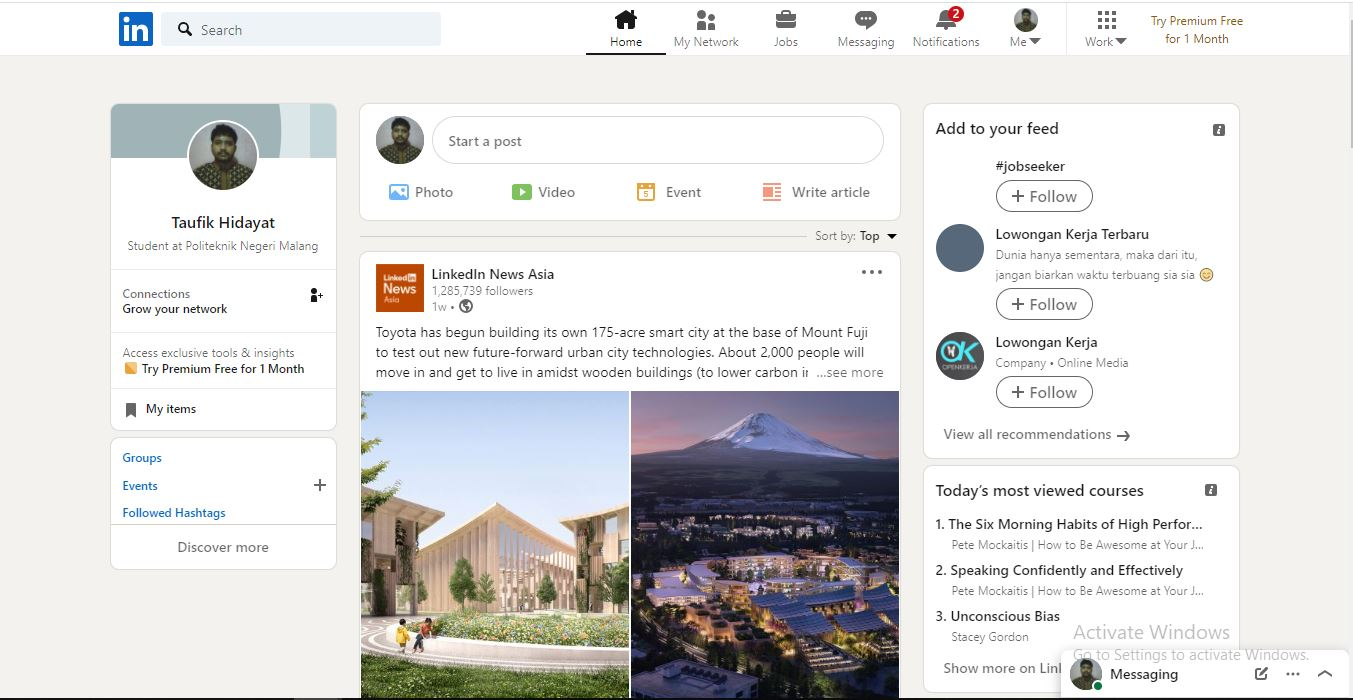Button: (166, 13, 196, 45)
Image: (359, 392, 627, 700), (634, 392, 898, 700), (187, 119, 258, 192), (116, 7, 154, 47)
Menu Bar: (582, 3, 996, 58)
Nav Bar: (998, 2, 1246, 54), (118, 442, 258, 524)
Side Bar: (923, 106, 1240, 456), (111, 105, 340, 430), (925, 468, 1238, 700), (113, 439, 335, 565)
Text Field: (199, 11, 439, 46)
